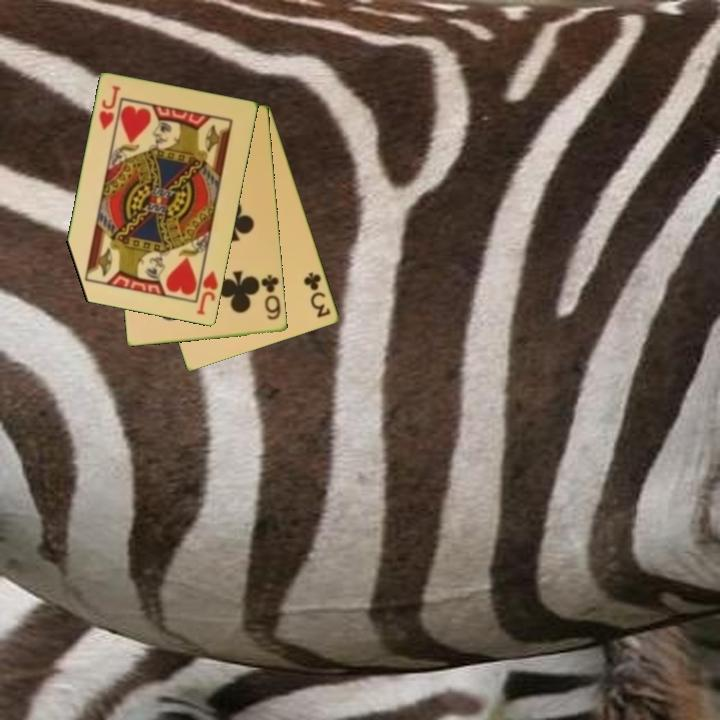3c: (300, 269, 334, 321)
6c: (258, 271, 284, 323)
Jh: (95, 82, 124, 133), (193, 268, 221, 318)
